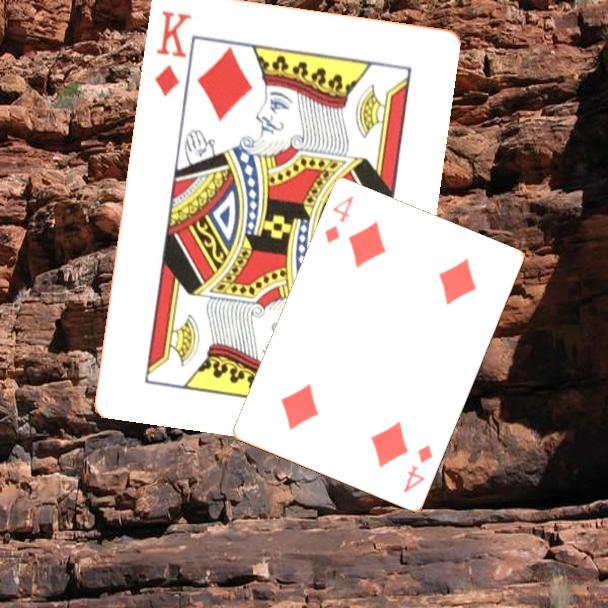d04: (400, 441, 436, 496), (321, 193, 357, 247)
d13: (151, 7, 194, 98)
